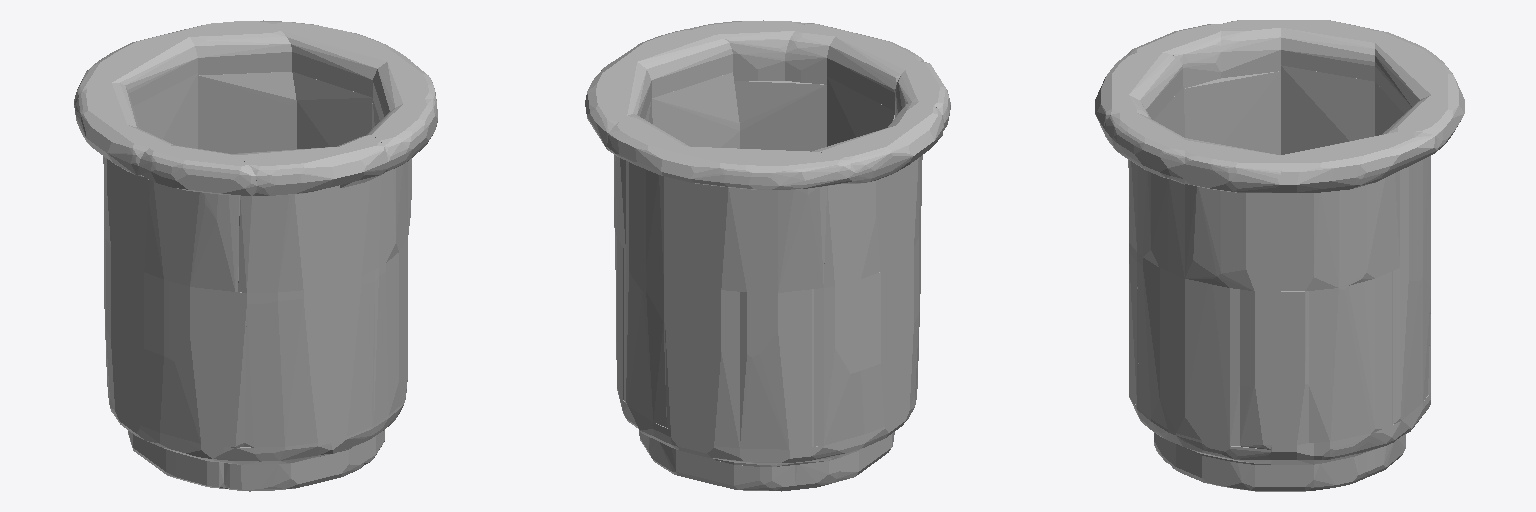
--- What the picture shows (computed from the rendered views, not written in the file) ---
The picture shows the robot from 3 angles, left to right: view 1: azimuth 30°, elevation 25°; view 2: azimuth 150°, elevation 25°; view 3: azimuth 270°, elevation 25°; orthographic projection.
Model root with 2 links and 1 joints (1 revolute), rooted at body, posed every joint at zero.
Visible links, largest first — view 1: body; view 2: body; view 3: body.
Boxes of the visible links, <box> form: body: <box>74,20,437,491</box>; body: <box>585,20,950,491</box>; body: <box>1095,20,1464,491</box>.
Bounding box of the posed robot: 1.4 × 1.4 × 1.46 m (x, y, z).
Meshes: 53 distinct files referenced, 54 mesh visuals loaded (53 OBJ).

The robot description file, URDF, robot "root":
<robot name="root">
  <link name="body">
    <visual>
      <origin xyz="0 0 0" rpy="0 0 0"/>
      <geometry>
        <mesh filename="coacd_convex_piece_0.obj" scale="1.0000E+00 1.0000E+00 1.0000E+00"/>
      </geometry>
      <material name="">
        <color rgba="7.50E-01 7.50E-01 7.50E-01 1"/>
      </material>
    </visual>
    <collision>
      <origin xyz="0 0 0" rpy="0 0 0"/>
      <geometry>
        <mesh filename="coacd_convex_piece_0.obj" scale="1.0000E+00 1.0000E+00 1.0000E+00"/>
      </geometry>
    </collision>
    <visual>
      <origin xyz="0 0 0" rpy="0 0 0"/>
      <geometry>
        <mesh filename="coacd_convex_piece_1.obj" scale="1.0000E+00 1.0000E+00 1.0000E+00"/>
      </geometry>
      <material name="">
        <color rgba="7.50E-01 7.50E-01 7.50E-01 1"/>
      </material>
    </visual>
    <collision>
      <origin xyz="0 0 0" rpy="0 0 0"/>
      <geometry>
        <mesh filename="coacd_convex_piece_1.obj" scale="1.0000E+00 1.0000E+00 1.0000E+00"/>
      </geometry>
    </collision>
    <visual>
      <origin xyz="0 0 0" rpy="0 0 0"/>
      <geometry>
        <mesh filename="coacd_convex_piece_2.obj" scale="1.0000E+00 1.0000E+00 1.0000E+00"/>
      </geometry>
      <material name="">
        <color rgba="7.50E-01 7.50E-01 7.50E-01 1"/>
      </material>
    </visual>
    <collision>
      <origin xyz="0 0 0" rpy="0 0 0"/>
      <geometry>
        <mesh filename="coacd_convex_piece_2.obj" scale="1.0000E+00 1.0000E+00 1.0000E+00"/>
      </geometry>
    </collision>
    <visual>
      <origin xyz="0 0 0" rpy="0 0 0"/>
      <geometry>
        <mesh filename="coacd_convex_piece_3.obj" scale="1.0000E+00 1.0000E+00 1.0000E+00"/>
      </geometry>
      <material name="">
        <color rgba="7.50E-01 7.50E-01 7.50E-01 1"/>
      </material>
    </visual>
    <collision>
      <origin xyz="0 0 0" rpy="0 0 0"/>
      <geometry>
        <mesh filename="coacd_convex_piece_3.obj" scale="1.0000E+00 1.0000E+00 1.0000E+00"/>
      </geometry>
    </collision>
    <visual>
      <origin xyz="0 0 0" rpy="0 0 0"/>
      <geometry>
        <mesh filename="coacd_convex_piece_4.obj" scale="1.0000E+00 1.0000E+00 1.0000E+00"/>
      </geometry>
      <material name="">
        <color rgba="7.50E-01 7.50E-01 7.50E-01 1"/>
      </material>
    </visual>
    <collision>
      <origin xyz="0 0 0" rpy="0 0 0"/>
      <geometry>
        <mesh filename="coacd_convex_piece_4.obj" scale="1.0000E+00 1.0000E+00 1.0000E+00"/>
      </geometry>
    </collision>
    <visual>
      <origin xyz="0 0 0" rpy="0 0 0"/>
      <geometry>
        <mesh filename="coacd_convex_piece_5.obj" scale="1.0000E+00 1.0000E+00 1.0000E+00"/>
      </geometry>
      <material name="">
        <color rgba="7.50E-01 7.50E-01 7.50E-01 1"/>
      </material>
    </visual>
    <collision>
      <origin xyz="0 0 0" rpy="0 0 0"/>
      <geometry>
        <mesh filename="coacd_convex_piece_5.obj" scale="1.0000E+00 1.0000E+00 1.0000E+00"/>
      </geometry>
    </collision>
    <visual>
      <origin xyz="0 0 0" rpy="0 0 0"/>
      <geometry>
        <mesh filename="coacd_convex_piece_6.obj" scale="1.0000E+00 1.0000E+00 1.0000E+00"/>
      </geometry>
      <material name="">
        <color rgba="7.50E-01 7.50E-01 7.50E-01 1"/>
      </material>
    </visual>
    <collision>
      <origin xyz="0 0 0" rpy="0 0 0"/>
      <geometry>
        <mesh filename="coacd_convex_piece_6.obj" scale="1.0000E+00 1.0000E+00 1.0000E+00"/>
      </geometry>
    </collision>
    <visual>
      <origin xyz="0 0 0" rpy="0 0 0"/>
      <geometry>
        <mesh filename="coacd_convex_piece_7.obj" scale="1.0000E+00 1.0000E+00 1.0000E+00"/>
      </geometry>
      <material name="">
        <color rgba="7.50E-01 7.50E-01 7.50E-01 1"/>
      </material>
    </visual>
    <collision>
      <origin xyz="0 0 0" rpy="0 0 0"/>
      <geometry>
        <mesh filename="coacd_convex_piece_7.obj" scale="1.0000E+00 1.0000E+00 1.0000E+00"/>
      </geometry>
    </collision>
    <visual>
      <origin xyz="0 0 0" rpy="0 0 0"/>
      <geometry>
        <mesh filename="coacd_convex_piece_8.obj" scale="1.0000E+00 1.0000E+00 1.0000E+00"/>
      </geometry>
      <material name="">
        <color rgba="7.50E-01 7.50E-01 7.50E-01 1"/>
      </material>
    </visual>
    <collision>
      <origin xyz="0 0 0" rpy="0 0 0"/>
      <geometry>
        <mesh filename="coacd_convex_piece_8.obj" scale="1.0000E+00 1.0000E+00 1.0000E+00"/>
      </geometry>
    </collision>
    <visual>
      <origin xyz="0 0 0" rpy="0 0 0"/>
      <geometry>
        <mesh filename="coacd_convex_piece_9.obj" scale="1.0000E+00 1.0000E+00 1.0000E+00"/>
      </geometry>
      <material name="">
        <color rgba="7.50E-01 7.50E-01 7.50E-01 1"/>
      </material>
    </visual>
    <collision>
      <origin xyz="0 0 0" rpy="0 0 0"/>
      <geometry>
        <mesh filename="coacd_convex_piece_9.obj" scale="1.0000E+00 1.0000E+00 1.0000E+00"/>
      </geometry>
    </collision>
    <visual>
      <origin xyz="0 0 0" rpy="0 0 0"/>
      <geometry>
        <mesh filename="coacd_convex_piece_10.obj" scale="1.0000E+00 1.0000E+00 1.0000E+00"/>
      </geometry>
      <material name="">
        <color rgba="7.50E-01 7.50E-01 7.50E-01 1"/>
      </material>
    </visual>
    <collision>
      <origin xyz="0 0 0" rpy="0 0 0"/>
      <geometry>
        <mesh filename="coacd_convex_piece_10.obj" scale="1.0000E+00 1.0000E+00 1.0000E+00"/>
      </geometry>
    </collision>
    <visual>
      <origin xyz="0 0 0" rpy="0 0 0"/>
      <geometry>
        <mesh filename="coacd_convex_piece_11.obj" scale="1.0000E+00 1.0000E+00 1.0000E+00"/>
      </geometry>
      <material name="">
        <color rgba="7.50E-01 7.50E-01 7.50E-01 1"/>
      </material>
    </visual>
    <collision>
      <origin xyz="0 0 0" rpy="0 0 0"/>
      <geometry>
        <mesh filename="coacd_convex_piece_11.obj" scale="1.0000E+00 1.0000E+00 1.0000E+00"/>
      </geometry>
    </collision>
    <visual>
      <origin xyz="0 0 0" rpy="0 0 0"/>
      <geometry>
        <mesh filename="coacd_convex_piece_12.obj" scale="1.0000E+00 1.0000E+00 1.0000E+00"/>
      </geometry>
      <material name="">
        <color rgba="7.50E-01 7.50E-01 7.50E-01 1"/>
      </material>
    </visual>
    <collision>
      <origin xyz="0 0 0" rpy="0 0 0"/>
      <geometry>
        <mesh filename="coacd_convex_piece_12.obj" scale="1.0000E+00 1.0000E+00 1.0000E+00"/>
      </geometry>
    </collision>
    <visual>
      <origin xyz="0 0 0" rpy="0 0 0"/>
      <geometry>
        <mesh filename="coacd_convex_piece_13.obj" scale="1.0000E+00 1.0000E+00 1.0000E+00"/>
      </geometry>
      <material name="">
        <color rgba="7.50E-01 7.50E-01 7.50E-01 1"/>
      </material>
    </visual>
    <collision>
      <origin xyz="0 0 0" rpy="0 0 0"/>
      <geometry>
        <mesh filename="coacd_convex_piece_13.obj" scale="1.0000E+00 1.0000E+00 1.0000E+00"/>
      </geometry>
    </collision>
    <visual>
      <origin xyz="0 0 0" rpy="0 0 0"/>
      <geometry>
        <mesh filename="coacd_convex_piece_14.obj" scale="1.0000E+00 1.0000E+00 1.0000E+00"/>
      </geometry>
      <material name="">
        <color rgba="7.50E-01 7.50E-01 7.50E-01 1"/>
      </material>
    </visual>
    <collision>
      <origin xyz="0 0 0" rpy="0 0 0"/>
      <geometry>
        <mesh filename="coacd_convex_piece_14.obj" scale="1.0000E+00 1.0000E+00 1.0000E+00"/>
      </geometry>
    </collision>
    <visual>
      <origin xyz="0 0 0" rpy="0 0 0"/>
      <geometry>
        <mesh filename="coacd_convex_piece_15.obj" scale="1.0000E+00 1.0000E+00 1.0000E+00"/>
      </geometry>
      <material name="">
        <color rgba="7.50E-01 7.50E-01 7.50E-01 1"/>
      </material>
    </visual>
    <collision>
      <origin xyz="0 0 0" rpy="0 0 0"/>
      <geometry>
        <mesh filename="coacd_convex_piece_15.obj" scale="1.0000E+00 1.0000E+00 1.0000E+00"/>
      </geometry>
    </collision>
    <visual>
      <origin xyz="0 0 0" rpy="0 0 0"/>
      <geometry>
        <mesh filename="coacd_convex_piece_16.obj" scale="1.0000E+00 1.0000E+00 1.0000E+00"/>
      </geometry>
      <material name="">
        <color rgba="7.50E-01 7.50E-01 7.50E-01 1"/>
      </material>
    </visual>
    <collision>
      <origin xyz="0 0 0" rpy="0 0 0"/>
      <geometry>
        <mesh filename="coacd_convex_piece_16.obj" scale="1.0000E+00 1.0000E+00 1.0000E+00"/>
      </geometry>
    </collision>
    <visual>
      <origin xyz="0 0 0" rpy="0 0 0"/>
      <geometry>
        <mesh filename="coacd_convex_piece_17.obj" scale="1.0000E+00 1.0000E+00 1.0000E+00"/>
      </geometry>
      <material name="">
        <color rgba="7.50E-01 7.50E-01 7.50E-01 1"/>
      </material>
    </visual>
    <collision>
      <origin xyz="0 0 0" rpy="0 0 0"/>
      <geometry>
        <mesh filename="coacd_convex_piece_17.obj" scale="1.0000E+00 1.0000E+00 1.0000E+00"/>
      </geometry>
    </collision>
    <visual>
      <origin xyz="0 0 0" rpy="0 0 0"/>
      <geometry>
        <mesh filename="coacd_convex_piece_18.obj" scale="1.0000E+00 1.0000E+00 1.0000E+00"/>
      </geometry>
      <material name="">
        <color rgba="7.50E-01 7.50E-01 7.50E-01 1"/>
      </material>
    </visual>
    <collision>
      <origin xyz="0 0 0" rpy="0 0 0"/>
      <geometry>
        <mesh filename="coacd_convex_piece_18.obj" scale="1.0000E+00 1.0000E+00 1.0000E+00"/>
      </geometry>
    </collision>
    <visual>
      <origin xyz="0 0 0" rpy="0 0 0"/>
      <geometry>
        <mesh filename="coacd_convex_piece_19.obj" scale="1.0000E+00 1.0000E+00 1.0000E+00"/>
      </geometry>
      <material name="">
        <color rgba="7.50E-01 7.50E-01 7.50E-01 1"/>
      </material>
    </visual>
    <collision>
      <origin xyz="0 0 0" rpy="0 0 0"/>
      <geometry>
        <mesh filename="coacd_convex_piece_19.obj" scale="1.0000E+00 1.0000E+00 1.0000E+00"/>
      </geometry>
    </collision>
    <visual>
      <origin xyz="0 0 0" rpy="0 0 0"/>
      <geometry>
        <mesh filename="coacd_convex_piece_20.obj" scale="1.0000E+00 1.0000E+00 1.0000E+00"/>
      </geometry>
      <material name="">
        <color rgba="7.50E-01 7.50E-01 7.50E-01 1"/>
      </material>
    </visual>
    <collision>
      <origin xyz="0 0 0" rpy="0 0 0"/>
      <geometry>
        <mesh filename="coacd_convex_piece_20.obj" scale="1.0000E+00 1.0000E+00 1.0000E+00"/>
      </geometry>
    </collision>
    <visual>
      <origin xyz="0 0 0" rpy="0 0 0"/>
      <geometry>
        <mesh filename="coacd_convex_piece_21.obj" scale="1.0000E+00 1.0000E+00 1.0000E+00"/>
      </geometry>
      <material name="">
        <color rgba="7.50E-01 7.50E-01 7.50E-01 1"/>
      </material>
    </visual>
    <collision>
      <origin xyz="0 0 0" rpy="0 0 0"/>
      <geometry>
        <mesh filename="coacd_convex_piece_21.obj" scale="1.0000E+00 1.0000E+00 1.0000E+00"/>
      </geometry>
    </collision>
    <visual>
      <origin xyz="0 0 0" rpy="0 0 0"/>
      <geometry>
        <mesh filename="coacd_convex_piece_22.obj" scale="1.0000E+00 1.0000E+00 1.0000E+00"/>
      </geometry>
      <material name="">
        <color rgba="7.50E-01 7.50E-01 7.50E-01 1"/>
      </material>
    </visual>
    <collision>
      <origin xyz="0 0 0" rpy="0 0 0"/>
      <geometry>
        <mesh filename="coacd_convex_piece_22.obj" scale="1.0000E+00 1.0000E+00 1.0000E+00"/>
      </geometry>
    </collision>
    <visual>
      <origin xyz="0 0 0" rpy="0 0 0"/>
      <geometry>
        <mesh filename="coacd_convex_piece_23.obj" scale="1.0000E+00 1.0000E+00 1.0000E+00"/>
      </geometry>
      <material name="">
        <color rgba="7.50E-01 7.50E-01 7.50E-01 1"/>
      </material>
    </visual>
    <collision>
      <origin xyz="0 0 0" rpy="0 0 0"/>
      <geometry>
        <mesh filename="coacd_convex_piece_23.obj" scale="1.0000E+00 1.0000E+00 1.0000E+00"/>
      </geometry>
    </collision>
    <visual>
      <origin xyz="0 0 0" rpy="0 0 0"/>
      <geometry>
        <mesh filename="coacd_convex_piece_24.obj" scale="1.0000E+00 1.0000E+00 1.0000E+00"/>
      </geometry>
      <material name="">
        <color rgba="7.50E-01 7.50E-01 7.50E-01 1"/>
      </material>
    </visual>
    <collision>
      <origin xyz="0 0 0" rpy="0 0 0"/>
      <geometry>
        <mesh filename="coacd_convex_piece_24.obj" scale="1.0000E+00 1.0000E+00 1.0000E+00"/>
      </geometry>
    </collision>
    <visual>
      <origin xyz="0 0 0" rpy="0 0 0"/>
      <geometry>
        <mesh filename="coacd_convex_piece_25.obj" scale="1.0000E+00 1.0000E+00 1.0000E+00"/>
      </geometry>
      <material name="">
        <color rgba="7.50E-01 7.50E-01 7.50E-01 1"/>
      </material>
    </visual>
    <collision>
      <origin xyz="0 0 0" rpy="0 0 0"/>
      <geometry>
        <mesh filename="coacd_convex_piece_25.obj" scale="1.0000E+00 1.0000E+00 1.0000E+00"/>
      </geometry>
    </collision>
    <visual>
      <origin xyz="0 0 0" rpy="0 0 0"/>
      <geometry>
        <mesh filename="coacd_convex_piece_26.obj" scale="1.0000E+00 1.0000E+00 1.0000E+00"/>
      </geometry>
      <material name="">
        <color rgba="7.50E-01 7.50E-01 7.50E-01 1"/>
      </material>
    </visual>
    <collision>
      <origin xyz="0 0 0" rpy="0 0 0"/>
      <geometry>
        <mesh filename="coacd_convex_piece_26.obj" scale="1.0000E+00 1.0000E+00 1.0000E+00"/>
      </geometry>
    </collision>
    <visual>
      <origin xyz="0 0 0" rpy="0 0 0"/>
      <geometry>
        <mesh filename="coacd_convex_piece_27.obj" scale="1.0000E+00 1.0000E+00 1.0000E+00"/>
      </geometry>
      <material name="">
        <color rgba="7.50E-01 7.50E-01 7.50E-01 1"/>
      </material>
    </visual>
    <collision>
      <origin xyz="0 0 0" rpy="0 0 0"/>
      <geometry>
        <mesh filename="coacd_convex_piece_27.obj" scale="1.0000E+00 1.0000E+00 1.0000E+00"/>
      </geometry>
    </collision>
    <visual>
      <origin xyz="0 0 0" rpy="0 0 0"/>
      <geometry>
        <mesh filename="coacd_convex_piece_28.obj" scale="1.0000E+00 1.0000E+00 1.0000E+00"/>
      </geometry>
      <material name="">
        <color rgba="7.50E-01 7.50E-01 7.50E-01 1"/>
      </material>
    </visual>
    <collision>
      <origin xyz="0 0 0" rpy="0 0 0"/>
      <geometry>
        <mesh filename="coacd_convex_piece_28.obj" scale="1.0000E+00 1.0000E+00 1.0000E+00"/>
      </geometry>
    </collision>
    <visual>
      <origin xyz="0 0 0" rpy="0 0 0"/>
      <geometry>
        <mesh filename="coacd_convex_piece_29.obj" scale="1.0000E+00 1.0000E+00 1.0000E+00"/>
      </geometry>
      <material name="">
        <color rgba="7.50E-01 7.50E-01 7.50E-01 1"/>
      </material>
    </visual>
    <collision>
      <origin xyz="0 0 0" rpy="0 0 0"/>
      <geometry>
        <mesh filename="coacd_convex_piece_29.obj" scale="1.0000E+00 1.0000E+00 1.0000E+00"/>
      </geometry>
    </collision>
    <visual>
      <origin xyz="0 0 0" rpy="0 0 0"/>
      <geometry>
        <mesh filename="coacd_convex_piece_30.obj" scale="1.0000E+00 1.0000E+00 1.0000E+00"/>
      </geometry>
      <material name="">
        <color rgba="7.50E-01 7.50E-01 7.50E-01 1"/>
      </material>
    </visual>
    <collision>
      <origin xyz="0 0 0" rpy="0 0 0"/>
      <geometry>
        <mesh filename="coacd_convex_piece_30.obj" scale="1.0000E+00 1.0000E+00 1.0000E+00"/>
      </geometry>
    </collision>
    <visual>
      <origin xyz="0 0 0" rpy="0 0 0"/>
      <geometry>
        <mesh filename="coacd_convex_piece_31.obj" scale="1.0000E+00 1.0000E+00 1.0000E+00"/>
      </geometry>
      <material name="">
        <color rgba="7.50E-01 7.50E-01 7.50E-01 1"/>
      </material>
    </visual>
    <collision>
      <origin xyz="0 0 0" rpy="0 0 0"/>
      <geometry>
        <mesh filename="coacd_convex_piece_31.obj" scale="1.0000E+00 1.0000E+00 1.0000E+00"/>
      </geometry>
    </collision>
    <visual>
      <origin xyz="0 0 0" rpy="0 0 0"/>
      <geometry>
        <mesh filename="coacd_convex_piece_32.obj" scale="1.0000E+00 1.0000E+00 1.0000E+00"/>
      </geometry>
      <material name="">
        <color rgba="7.50E-01 7.50E-01 7.50E-01 1"/>
      </material>
    </visual>
    <collision>
      <origin xyz="0 0 0" rpy="0 0 0"/>
      <geometry>
        <mesh filename="coacd_convex_piece_32.obj" scale="1.0000E+00 1.0000E+00 1.0000E+00"/>
      </geometry>
    </collision>
    <visual>
      <origin xyz="0 0 0" rpy="0 0 0"/>
      <geometry>
        <mesh filename="coacd_convex_piece_33.obj" scale="1.0000E+00 1.0000E+00 1.0000E+00"/>
      </geometry>
      <material name="">
        <color rgba="7.50E-01 7.50E-01 7.50E-01 1"/>
      </material>
    </visual>
    <collision>
      <origin xyz="0 0 0" rpy="0 0 0"/>
      <geometry>
        <mesh filename="coacd_convex_piece_33.obj" scale="1.0000E+00 1.0000E+00 1.0000E+00"/>
      </geometry>
    </collision>
    <visual>
      <origin xyz="0 0 0" rpy="0 0 0"/>
      <geometry>
        <mesh filename="coacd_convex_piece_34.obj" scale="1.0000E+00 1.0000E+00 1.0000E+00"/>
      </geometry>
      <material name="">
        <color rgba="7.50E-01 7.50E-01 7.50E-01 1"/>
      </material>
    </visual>
    <collision>
      <origin xyz="0 0 0" rpy="0 0 0"/>
      <geometry>
        <mesh filename="coacd_convex_piece_34.obj" scale="1.0000E+00 1.0000E+00 1.0000E+00"/>
      </geometry>
    </collision>
    <visual>
      <origin xyz="0 0 0" rpy="0 0 0"/>
      <geometry>
        <mesh filename="coacd_convex_piece_35.obj" scale="1.0000E+00 1.0000E+00 1.0000E+00"/>
      </geometry>
      <material name="">
        <color rgba="7.50E-01 7.50E-01 7.50E-01 1"/>
      </material>
    </visual>
    <collision>
      <origin xyz="0 0 0" rpy="0 0 0"/>
      <geometry>
        <mesh filename="coacd_convex_piece_35.obj" scale="1.0000E+00 1.0000E+00 1.0000E+00"/>
      </geometry>
    </collision>
    <visual>
      <origin xyz="0 0 0" rpy="0 0 0"/>
      <geometry>
        <mesh filename="coacd_convex_piece_36.obj" scale="1.0000E+00 1.0000E+00 1.0000E+00"/>
      </geometry>
      <material name="">
        <color rgba="7.50E-01 7.50E-01 7.50E-01 1"/>
      </material>
    </visual>
    <collision>
      <origin xyz="0 0 0" rpy="0 0 0"/>
      <geometry>
        <mesh filename="coacd_convex_piece_36.obj" scale="1.0000E+00 1.0000E+00 1.0000E+00"/>
      </geometry>
    </collision>
    <visual>
      <origin xyz="0 0 0" rpy="0 0 0"/>
      <geometry>
        <mesh filename="coacd_convex_piece_37.obj" scale="1.0000E+00 1.0000E+00 1.0000E+00"/>
      </geometry>
      <material name="">
        <color rgba="7.50E-01 7.50E-01 7.50E-01 1"/>
      </material>
    </visual>
    <collision>
      <origin xyz="0 0 0" rpy="0 0 0"/>
      <geometry>
        <mesh filename="coacd_convex_piece_37.obj" scale="1.0000E+00 1.0000E+00 1.0000E+00"/>
      </geometry>
    </collision>
    <visual>
      <origin xyz="0 0 0" rpy="0 0 0"/>
      <geometry>
        <mesh filename="coacd_convex_piece_38.obj" scale="1.0000E+00 1.0000E+00 1.0000E+00"/>
      </geometry>
      <material name="">
        <color rgba="7.50E-01 7.50E-01 7.50E-01 1"/>
      </material>
    </visual>
    <collision>
      <origin xyz="0 0 0" rpy="0 0 0"/>
      <geometry>
        <mesh filename="coacd_convex_piece_38.obj" scale="1.0000E+00 1.0000E+00 1.0000E+00"/>
      </geometry>
    </collision>
    <visual>
      <origin xyz="0 0 0" rpy="0 0 0"/>
      <geometry>
        <mesh filename="coacd_convex_piece_39.obj" scale="1.0000E+00 1.0000E+00 1.0000E+00"/>
      </geometry>
      <material name="">
        <color rgba="7.50E-01 7.50E-01 7.50E-01 1"/>
      </material>
    </visual>
    <collision>
      <origin xyz="0 0 0" rpy="0 0 0"/>
      <geometry>
        <mesh filename="coacd_convex_piece_39.obj" scale="1.0000E+00 1.0000E+00 1.0000E+00"/>
      </geometry>
    </collision>
    <visual>
      <origin xyz="0 0 0" rpy="0 0 0"/>
      <geometry>
        <mesh filename="coacd_convex_piece_40.obj" scale="1.0000E+00 1.0000E+00 1.0000E+00"/>
      </geometry>
      <material name="">
        <color rgba="7.50E-01 7.50E-01 7.50E-01 1"/>
      </material>
    </visual>
    <collision>
      <origin xyz="0 0 0" rpy="0 0 0"/>
      <geometry>
        <mesh filename="coacd_convex_piece_40.obj" scale="1.0000E+00 1.0000E+00 1.0000E+00"/>
      </geometry>
    </collision>
    <visual>
      <origin xyz="0 0 0" rpy="0 0 0"/>
      <geometry>
        <mesh filename="coacd_convex_piece_41.obj" scale="1.0000E+00 1.0000E+00 1.0000E+00"/>
      </geometry>
      <material name="">
        <color rgba="7.50E-01 7.50E-01 7.50E-01 1"/>
      </material>
    </visual>
    <collision>
      <origin xyz="0 0 0" rpy="0 0 0"/>
      <geometry>
        <mesh filename="coacd_convex_piece_41.obj" scale="1.0000E+00 1.0000E+00 1.0000E+00"/>
      </geometry>
    </collision>
    <visual>
      <origin xyz="0 0 0" rpy="0 0 0"/>
      <geometry>
        <mesh filename="coacd_convex_piece_42.obj" scale="1.0000E+00 1.0000E+00 1.0000E+00"/>
      </geometry>
      <material name="">
        <color rgba="7.50E-01 7.50E-01 7.50E-01 1"/>
      </material>
    </visual>
    <collision>
      <origin xyz="0 0 0" rpy="0 0 0"/>
      <geometry>
        <mesh filename="coacd_convex_piece_42.obj" scale="1.0000E+00 1.0000E+00 1.0000E+00"/>
      </geometry>
    </collision>
    <visual>
      <origin xyz="0 0 0" rpy="0 0 0"/>
      <geometry>
        <mesh filename="coacd_convex_piece_43.obj" scale="1.0000E+00 1.0000E+00 1.0000E+00"/>
      </geometry>
      <material name="">
        <color rgba="7.50E-01 7.50E-01 7.50E-01 1"/>
      </material>
    </visual>
    <collision>
      <origin xyz="0 0 0" rpy="0 0 0"/>
      <geometry>
        <mesh filename="coacd_convex_piece_43.obj" scale="1.0000E+00 1.0000E+00 1.0000E+00"/>
      </geometry>
    </collision>
    <visual>
      <origin xyz="0 0 0" rpy="0 0 0"/>
      <geometry>
        <mesh filename="coacd_convex_piece_44.obj" scale="1.0000E+00 1.0000E+00 1.0000E+00"/>
      </geometry>
      <material name="">
        <color rgba="7.50E-01 7.50E-01 7.50E-01 1"/>
      </material>
    </visual>
    <collision>
      <origin xyz="0 0 0" rpy="0 0 0"/>
      <geometry>
        <mesh filename="coacd_convex_piece_44.obj" scale="1.0000E+00 1.0000E+00 1.0000E+00"/>
      </geometry>
    </collision>
    <visual>
      <origin xyz="0 0 0" rpy="0 0 0"/>
      <geometry>
        <mesh filename="coacd_convex_piece_45.obj" scale="1.0000E+00 1.0000E+00 1.0000E+00"/>
      </geometry>
      <material name="">
        <color rgba="7.50E-01 7.50E-01 7.50E-01 1"/>
      </material>
    </visual>
    <collision>
      <origin xyz="0 0 0" rpy="0 0 0"/>
      <geometry>
        <mesh filename="coacd_convex_piece_45.obj" scale="1.0000E+00 1.0000E+00 1.0000E+00"/>
      </geometry>
    </collision>
    <visual>
      <origin xyz="0 0 0" rpy="0 0 0"/>
      <geometry>
        <mesh filename="coacd_convex_piece_46.obj" scale="1.0000E+00 1.0000E+00 1.0000E+00"/>
      </geometry>
      <material name="">
        <color rgba="7.50E-01 7.50E-01 7.50E-01 1"/>
      </material>
    </visual>
    <collision>
      <origin xyz="0 0 0" rpy="0 0 0"/>
      <geometry>
        <mesh filename="coacd_convex_piece_46.obj" scale="1.0000E+00 1.0000E+00 1.0000E+00"/>
      </geometry>
    </collision>
    <visual>
      <origin xyz="0 0 0" rpy="0 0 0"/>
      <geometry>
        <mesh filename="coacd_convex_piece_47.obj" scale="1.0000E+00 1.0000E+00 1.0000E+00"/>
      </geometry>
      <material name="">
        <color rgba="7.50E-01 7.50E-01 7.50E-01 1"/>
      </material>
    </visual>
    <collision>
      <origin xyz="0 0 0" rpy="0 0 0"/>
      <geometry>
        <mesh filename="coacd_convex_piece_47.obj" scale="1.0000E+00 1.0000E+00 1.0000E+00"/>
      </geometry>
    </collision>
    <visual>
      <origin xyz="0 0 0" rpy="0 0 0"/>
      <geometry>
        <mesh filename="coacd_convex_piece_48.obj" scale="1.0000E+00 1.0000E+00 1.0000E+00"/>
      </geometry>
      <material name="">
        <color rgba="7.50E-01 7.50E-01 7.50E-01 1"/>
      </material>
    </visual>
    <collision>
      <origin xyz="0 0 0" rpy="0 0 0"/>
      <geometry>
        <mesh filename="coacd_convex_piece_48.obj" scale="1.0000E+00 1.0000E+00 1.0000E+00"/>
      </geometry>
    </collision>
    <visual>
      <origin xyz="0 0 0" rpy="0 0 0"/>
      <geometry>
        <mesh filename="coacd_convex_piece_49.obj" scale="1.0000E+00 1.0000E+00 1.0000E+00"/>
      </geometry>
      <material name="">
        <color rgba="7.50E-01 7.50E-01 7.50E-01 1"/>
      </material>
    </visual>
    <collision>
      <origin xyz="0 0 0" rpy="0 0 0"/>
      <geometry>
        <mesh filename="coacd_convex_piece_49.obj" scale="1.0000E+00 1.0000E+00 1.0000E+00"/>
      </geometry>
    </collision>
    <visual>
      <origin xyz="0 0 0" rpy="0 0 0"/>
      <geometry>
        <mesh filename="coacd_convex_piece_50.obj" scale="1.0000E+00 1.0000E+00 1.0000E+00"/>
      </geometry>
      <material name="">
        <color rgba="7.50E-01 7.50E-01 7.50E-01 1"/>
      </material>
    </visual>
    <collision>
      <origin xyz="0 0 0" rpy="0 0 0"/>
      <geometry>
        <mesh filename="coacd_convex_piece_50.obj" scale="1.0000E+00 1.0000E+00 1.0000E+00"/>
      </geometry>
    </collision>
    <visual>
      <origin xyz="0 0 0" rpy="0 0 0"/>
      <geometry>
        <mesh filename="coacd_convex_piece_51.obj" scale="1.0000E+00 1.0000E+00 1.0000E+00"/>
      </geometry>
      <material name="">
        <color rgba="7.50E-01 7.50E-01 7.50E-01 1"/>
      </material>
    </visual>
    <collision>
      <origin xyz="0 0 0" rpy="0 0 0"/>
      <geometry>
        <mesh filename="coacd_convex_piece_51.obj" scale="1.0000E+00 1.0000E+00 1.0000E+00"/>
      </geometry>
    </collision>
    <visual>
      <origin xyz="0 0 0" rpy="0 0 0"/>
      <geometry>
        <mesh filename="coacd_convex_piece_52.obj" scale="1.0000E+00 1.0000E+00 1.0000E+00"/>
      </geometry>
      <material name="">
        <color rgba="7.50E-01 7.50E-01 7.50E-01 1"/>
      </material>
    </visual>
    <collision>
      <origin xyz="0 0 0" rpy="0 0 0"/>
      <geometry>
        <mesh filename="coacd_convex_piece_52.obj" scale="1.0000E+00 1.0000E+00 1.0000E+00"/>
      </geometry>
    </collision>
  </link>
    <link name="base">
        <visual>
      <origin xyz="0 0 0" rpy="0 0 0"/>
      <geometry>
        <mesh filename="coacd_convex_piece_0.obj" scale="1.0000E-05 1.0000E-05 1.0000E-05"/>
      </geometry>
      <material name="">
        <color rgba="7.50E-01 7.50E-01 7.50E-01 1"/>
      </material>
    </visual>
    <collision>
      <origin xyz="0 0 0" rpy="0 0 0"/>
      <geometry>
        <mesh filename="coacd_convex_piece_0.obj" scale="1.0000E-05 1.0000E-05 1.0000E-05"/>
      </geometry>
    </collision>
  </link>
<!--  <link name="base1"></link>-->
<!--  <joint name="joint1" type="fixed">-->
<!--    <origin xyz="0 0 0" rpy="0 0 0"/>-->
<!--    <parent link="base"/>-->
<!--    <child link="body"/>-->
<!--  </joint>-->
  <joint name="joint_use" type="revolute">
    <origin xyz="0 0 0" rpy="0 0 0"/>
    <parent link="body"/>
    <child link="base"/>
    <axis xyz="0 0 1"/>
    <limit lower="0.00" upper="1"/>
  </joint>
</robot>
